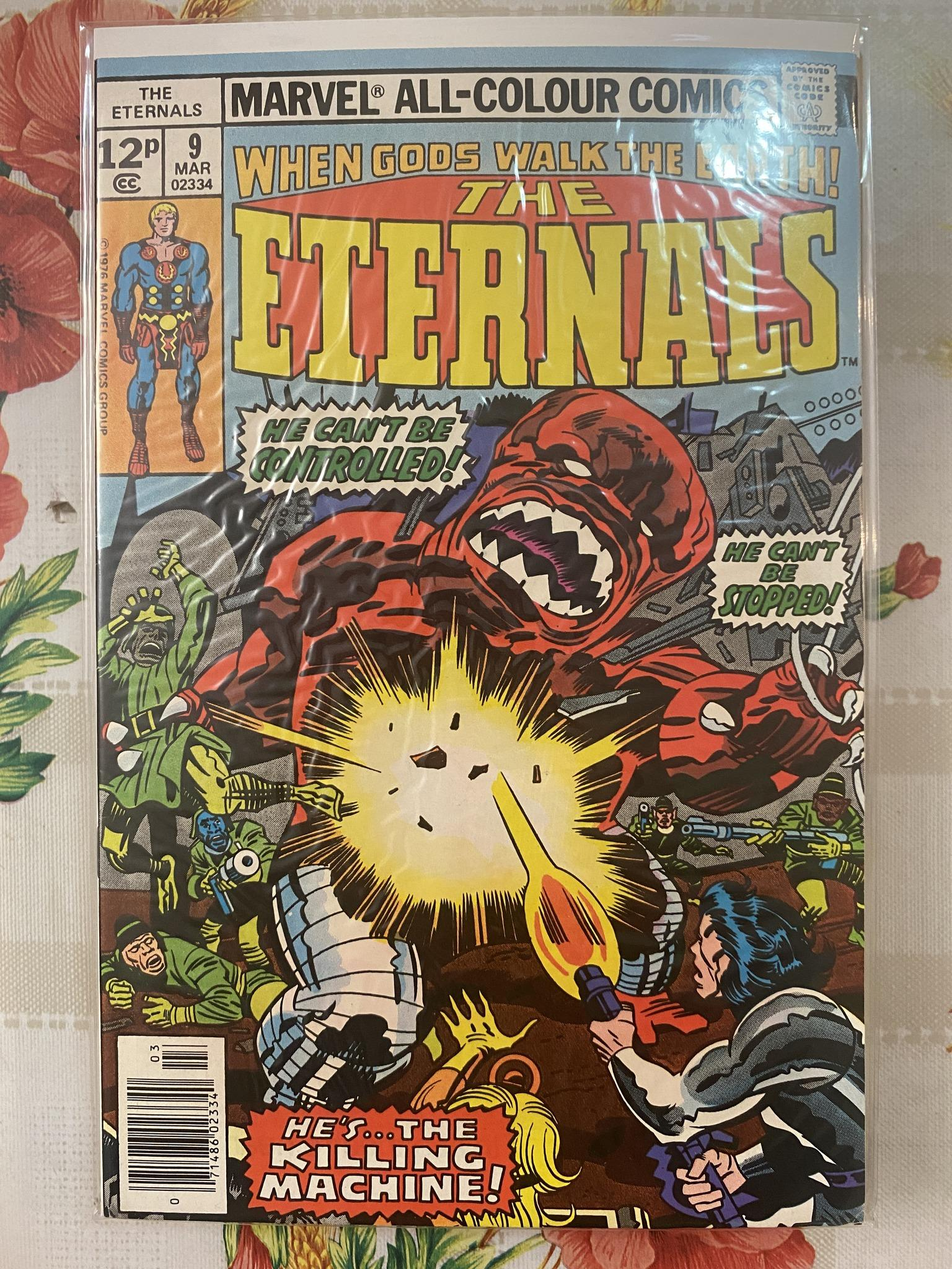comic: (85, 16, 868, 1231)
